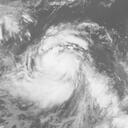cyclone: (13, 23, 90, 108)
